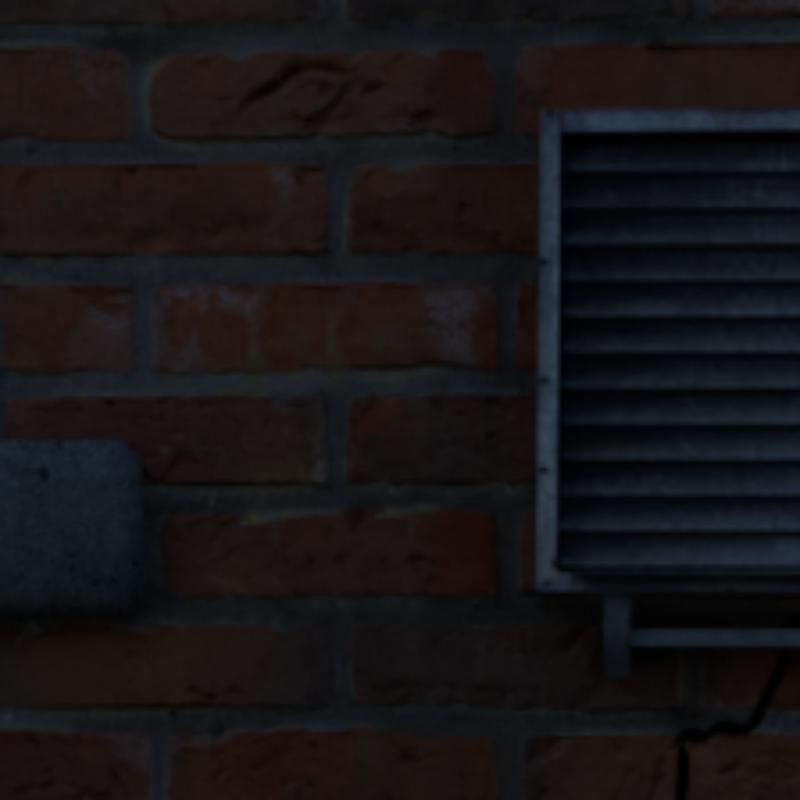pothole: (675, 646, 786, 796)
